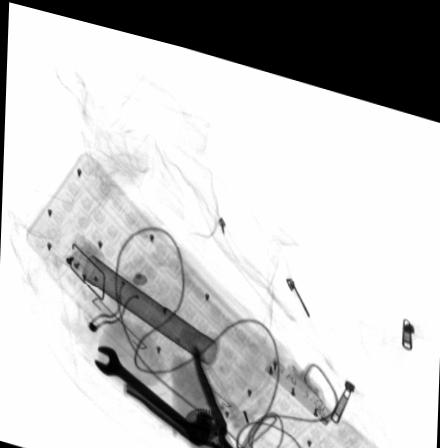Pliers: (121, 335, 246, 448)
Wrench: (91, 338, 210, 440)
